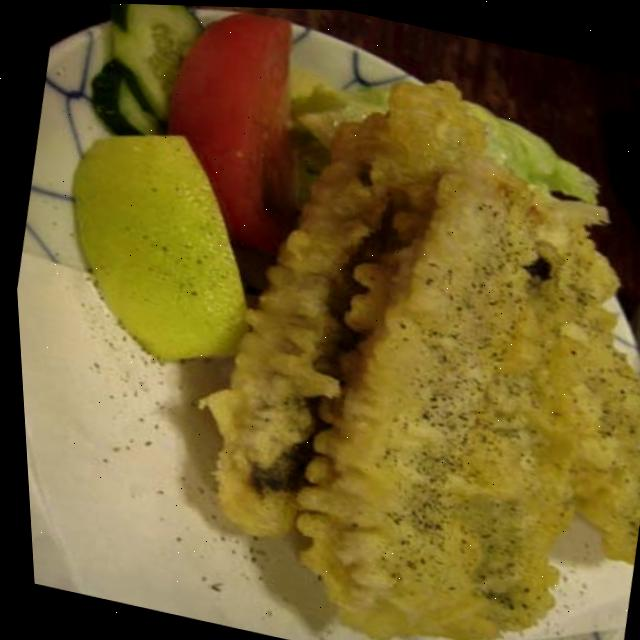炸货点心: (184, 56, 640, 640)
熟制海鲜: (184, 56, 640, 640)
